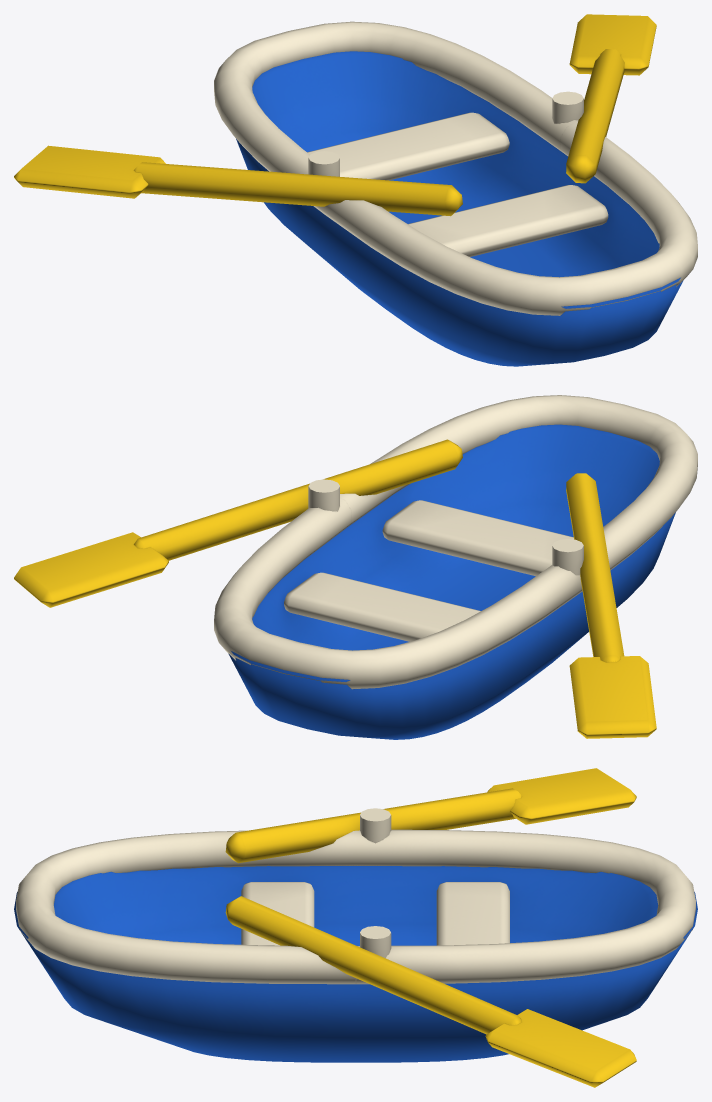
File: rowing-boat.fbx
3 renders of one model, top to bottom at view 1: azimuth 30°, elevation 25°; view 2: azimuth 150°, elevation 25°; view 3: azimuth 270°, elevation 25°, orthographic.
Parts seen in each view (by area): view 1: rowing-boat; view 2: rowing-boat; view 3: rowing-boat.
Boxes of the visible parts, <box> form: rowing-boat: <box>14,14,697,366</box>; rowing-boat: <box>14,395,697,739</box>; rowing-boat: <box>14,768,697,1087</box>.
Bounding box in the file's own units: 1420 × 349 × 1331.
Materials: 1 (1 with a texture image).
